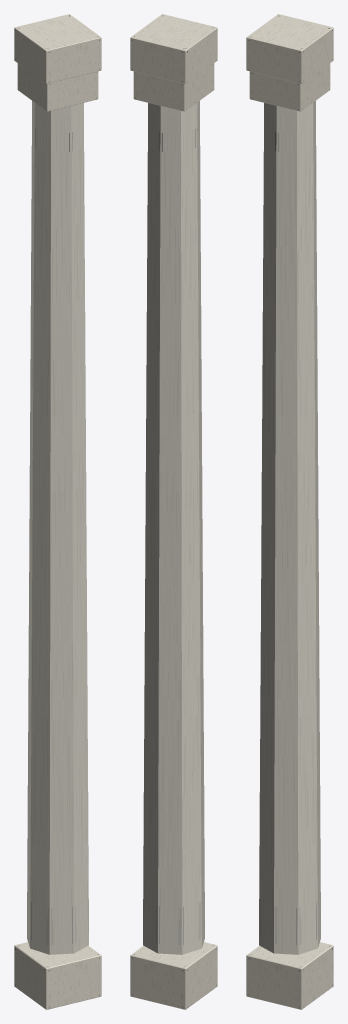
The model's file is house_03_porch_post.glb.
3 views of the same model, side by side, from view 1: azimuth 30°, elevation 25°; view 2: azimuth 150°, elevation 25°; view 3: azimuth 330°, elevation 25° (orthographic).
Parts seen in each view (by area): view 1: house_03_porch_post; view 2: house_03_porch_post; view 3: house_03_porch_post.
Boxes of the visible parts, x1=… form: house_03_porch_post: x1=14, y1=14, x2=101, y2=1009; house_03_porch_post: x1=130, y1=14, x2=217, y2=1009; house_03_porch_post: x1=246, y1=14, x2=333, y2=1009.
Size of the model in its own units: 0.14 by 2.3 by 0.14.
2 materials, 2 textured.
